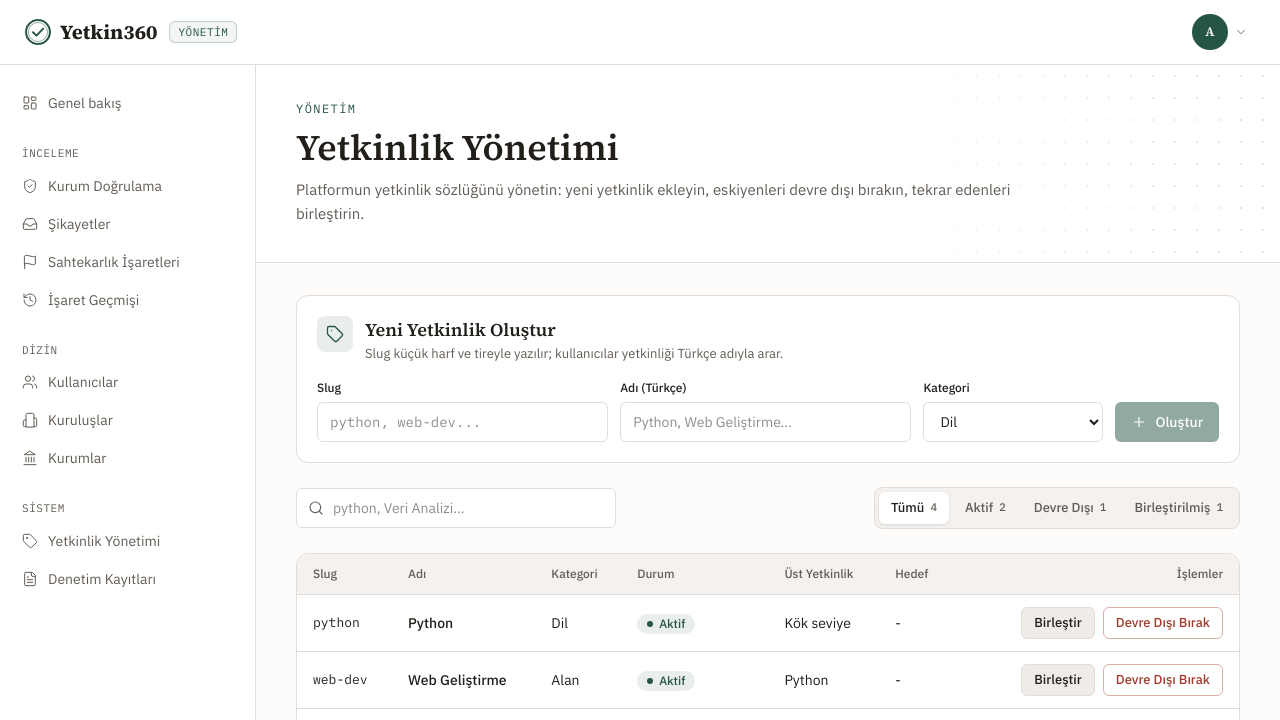
Scenario: SkillerPage (/admin/skiller) › AC-5: skill oluştur başarılı — 201 döner, yeni skill listeye eklenir
expect the text "python" is shown: met, box [297, 594, 392, 651]
Type "golang" into the field labelled "Slug" at (463, 422), box [317, 402, 608, 442]
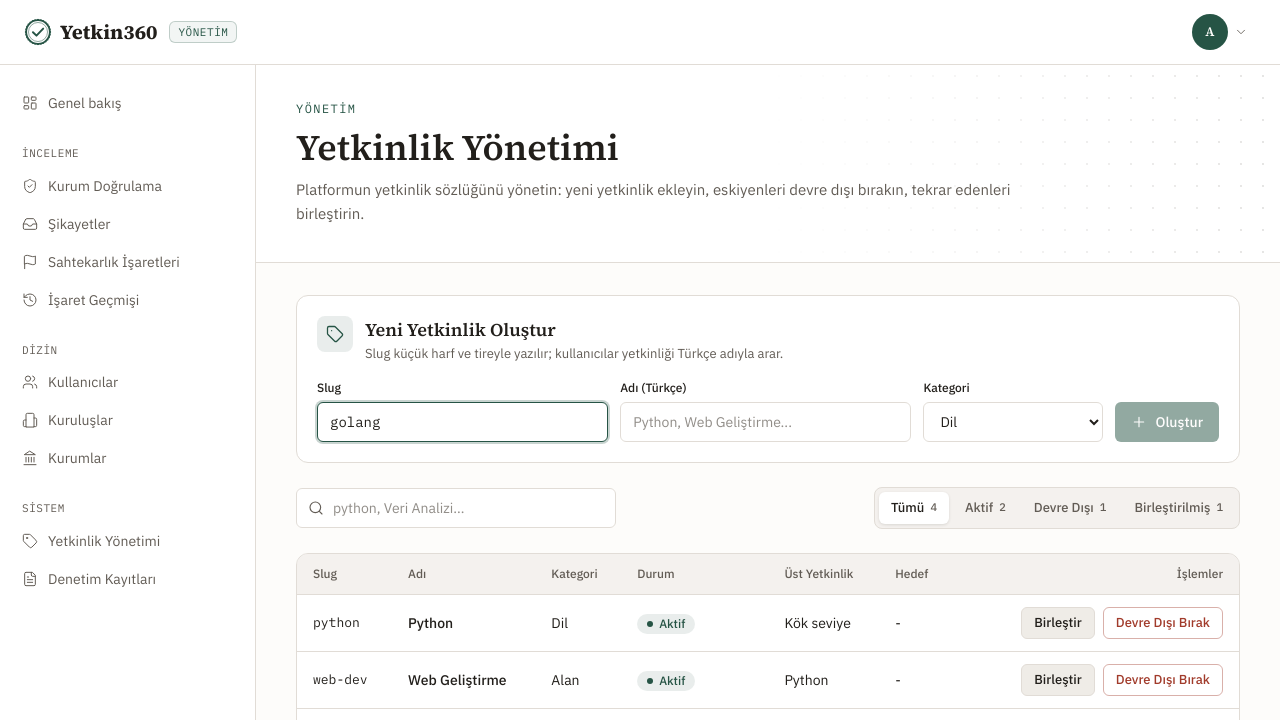
Type "Go" into the field labelled "Adı (Türkçe)" at (766, 422), box [620, 402, 911, 442]
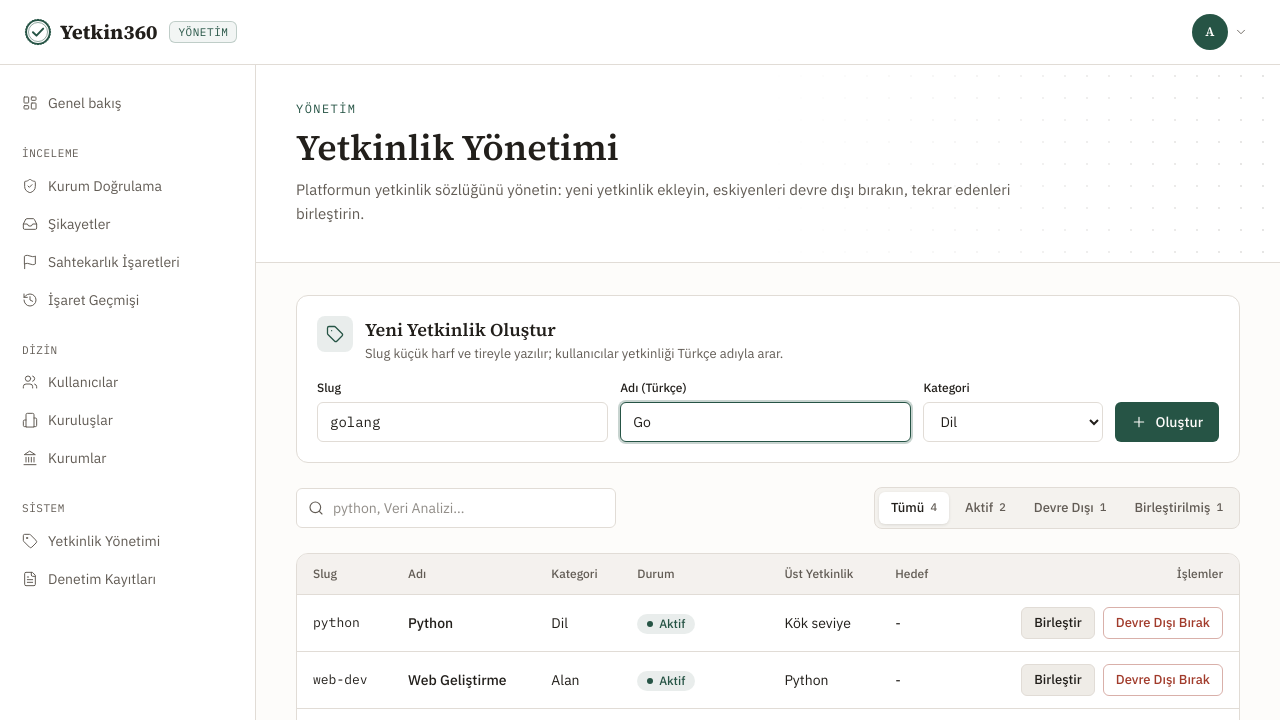
Select "Dil" in the dropdown labelled "Kategori" at (1013, 422), box [923, 402, 1103, 442]
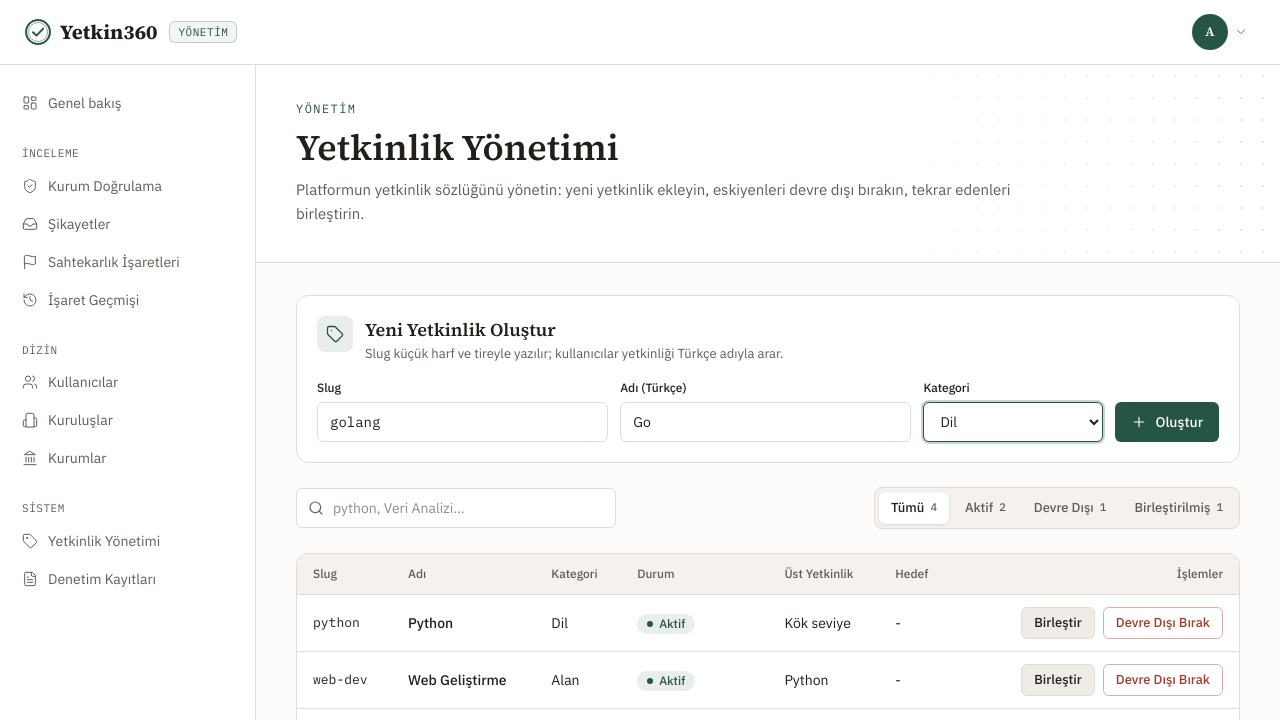
Click the button "Oluştur" at (1167, 422), box [1115, 402, 1219, 442]
(page scrolled)
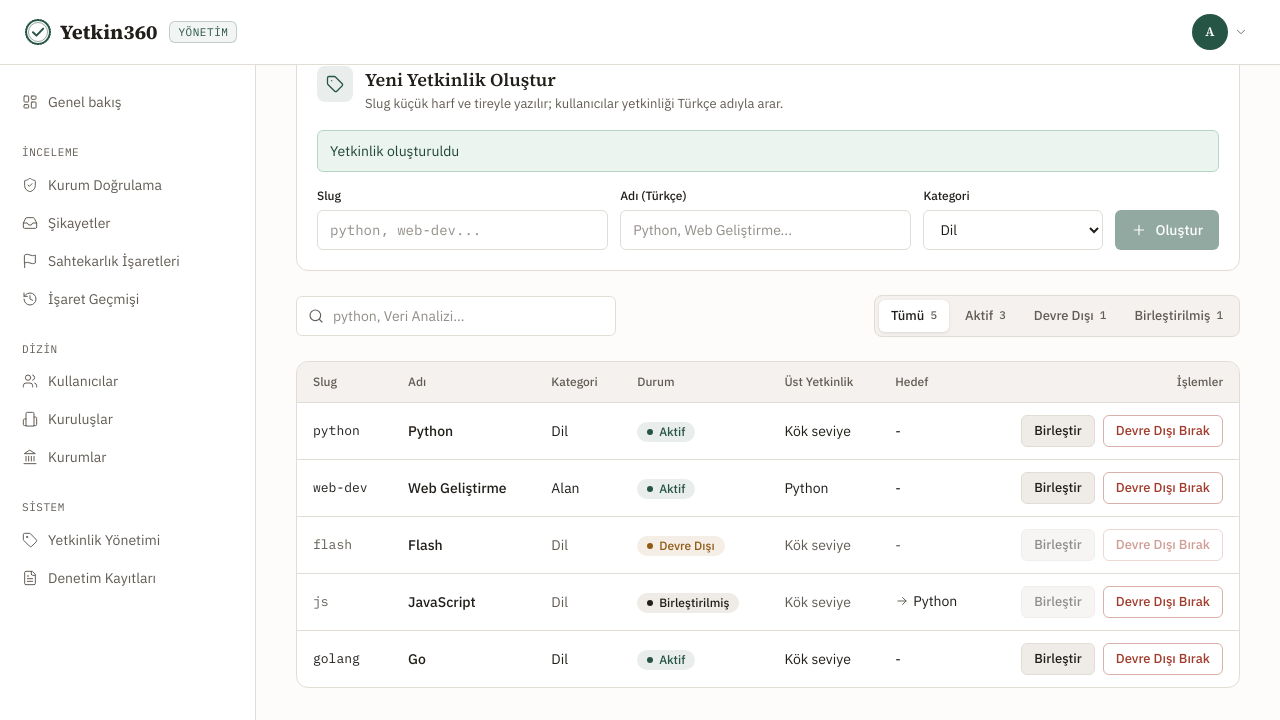
expect the text "golang" is shown: met, box [297, 630, 392, 686]
